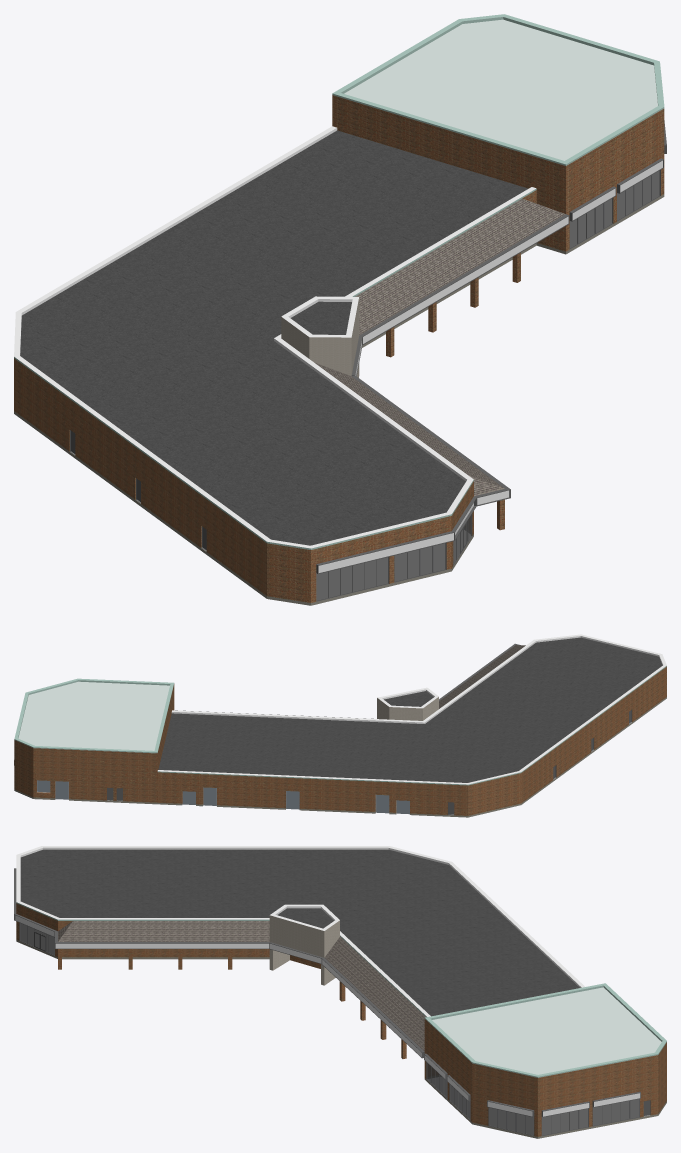
Rendered from Rouge Valley Dental Care.fbx.
3 views of the same model, one above another, from view 1: azimuth 30°, elevation 25°; view 2: azimuth 150°, elevation 25°; view 3: azimuth 270°, elevation 25° (orthographic). The views are drawn at different scales.
Parts seen in each view (by area): view 1: Rouge Valley Dental Care_SUNPARK (version 1.0); view 2: Rouge Valley Dental Care_SUNPARK (version 1.0); view 3: Rouge Valley Dental Care_SUNPARK (version 1.0).
Part boxes in pixels (left/top/right/bottom): Rouge Valley Dental Care_SUNPARK (version 1.0): left=14, top=14, right=666, bottom=605; Rouge Valley Dental Care_SUNPARK (version 1.0): left=14, top=634, right=666, bottom=817; Rouge Valley Dental Care_SUNPARK (version 1.0): left=14, top=846, right=666, bottom=1138.
Size of the model in its own units: 7230 by 825 by 7868.
Materials: 12 (6 with a texture image).
